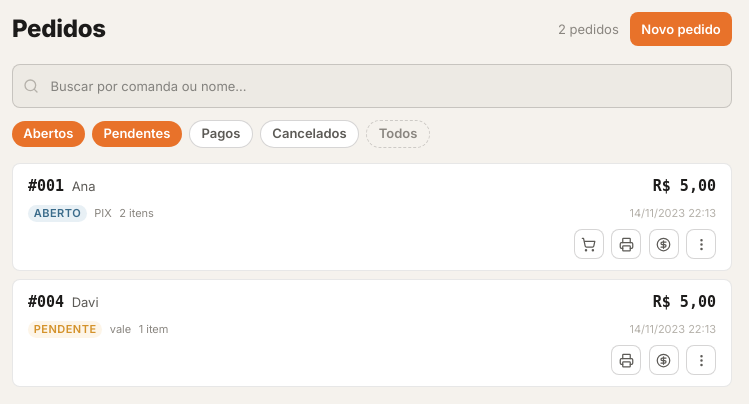
Test: OrdersPage › desliga um status já marcado
Expected: the text "#001" is shown, x1=28 y1=175 x2=64 y2=197
Click the button "Abertos". click: (48, 134)
box: x1=12 y1=121 x2=85 y2=147
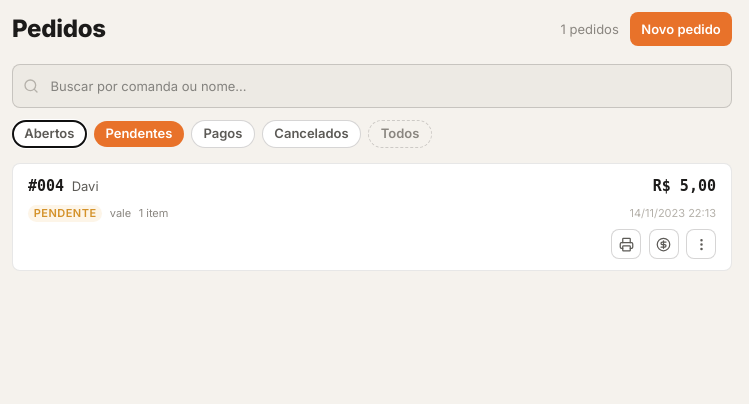
Expected: the text "#004" is shown, x1=28 y1=175 x2=64 y2=197
Expected: the text "#001" is gone
